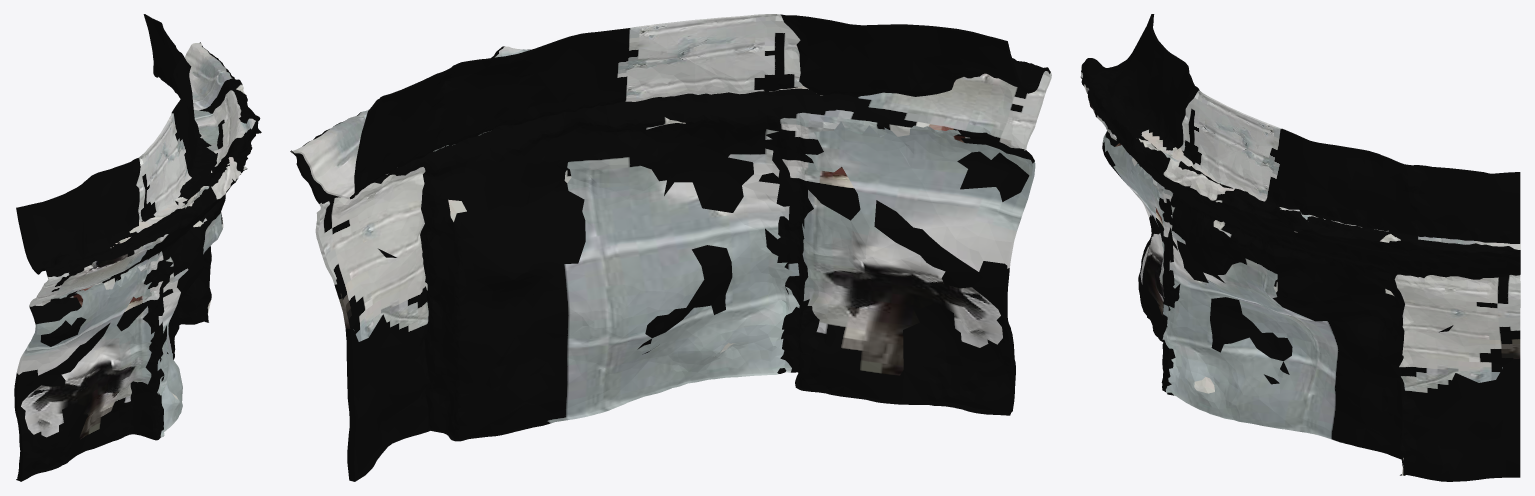
3 renders of one model, left to right at view 1: azimuth 30°, elevation 25°; view 2: azimuth 150°, elevation 25°; view 3: azimuth 270°, elevation 25°, orthographic. The views are drawn at different scales.
Visible parts, largest first — view 1: node_43; view 2: node_43; view 3: node_43.
Boxes of the visible parts, <box> form: node_43: <box>14,14,261,481</box>; node_43: <box>290,14,1051,481</box>; node_43: <box>1080,14,1520,481</box>.
Bounding box in the file's own units: 1.28 × 0.9363 × 1.25.
Materials: 1 (1 with a texture image).
